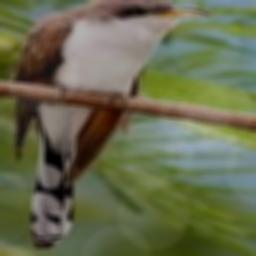Cuckoo: (13, 0, 211, 248)
